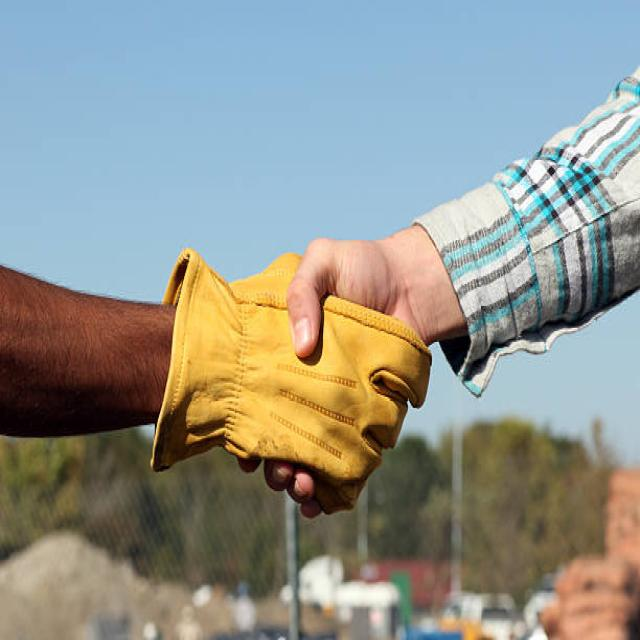Gloves: (142, 240, 438, 515)
